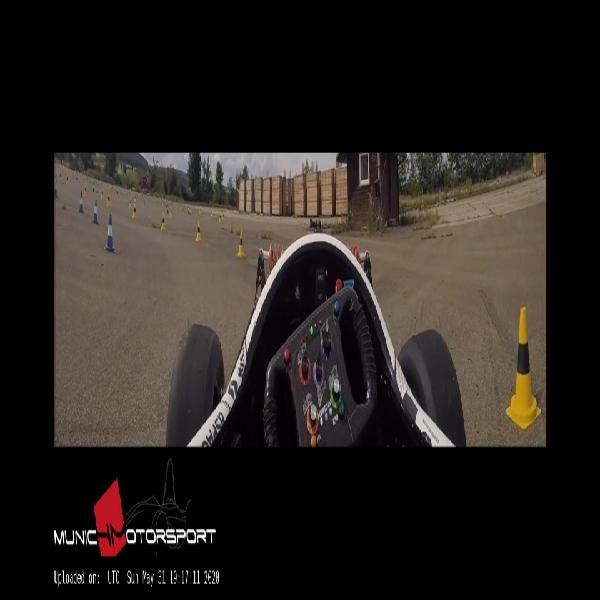blue_cone: (104, 214, 113, 252), (92, 198, 98, 224), (78, 191, 84, 214)
yellow_cone: (505, 306, 541, 430), (237, 230, 244, 256), (196, 220, 201, 241), (161, 213, 165, 230)
